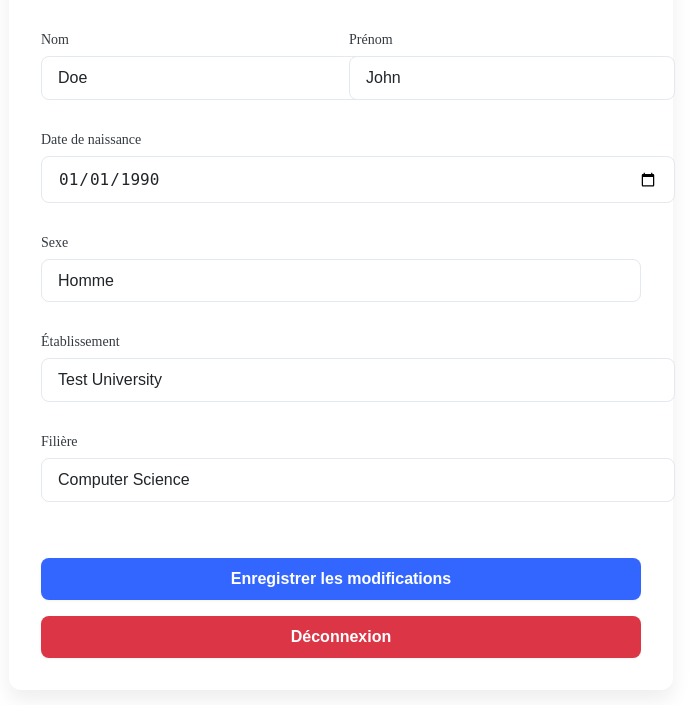
Test: ProfilePage › clears success/error messages on form change
(page scrolled)
Submit to show success
Click the button "Enregistrer les modifications".
click(341, 579)  # box [41,558,641,600]
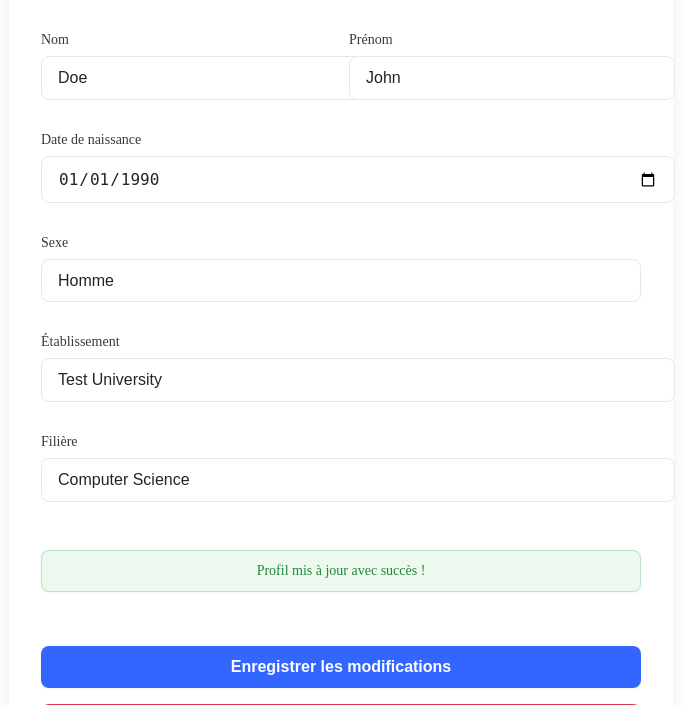
expect the text "Profil mis à jour avec succès !" is shown: met, box [41,550,641,592]
Change a field
Replace the text in the field labelled "Nom" with "AnotherName" at (204, 78), box [41,56,367,100]
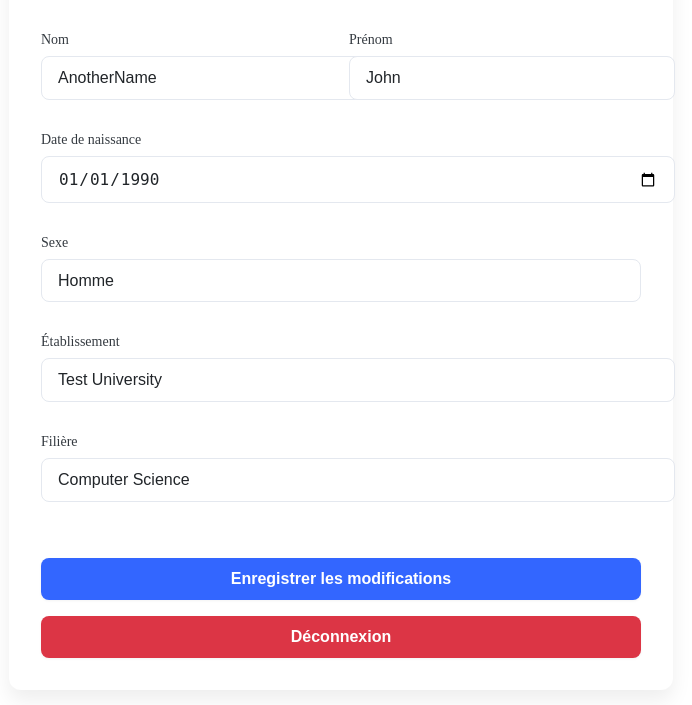
expect the text "Profil mis à jour avec succès !" is gone: met
Click the button "Enregistrer les modifications".
click(341, 579)  # box [41,558,641,600]
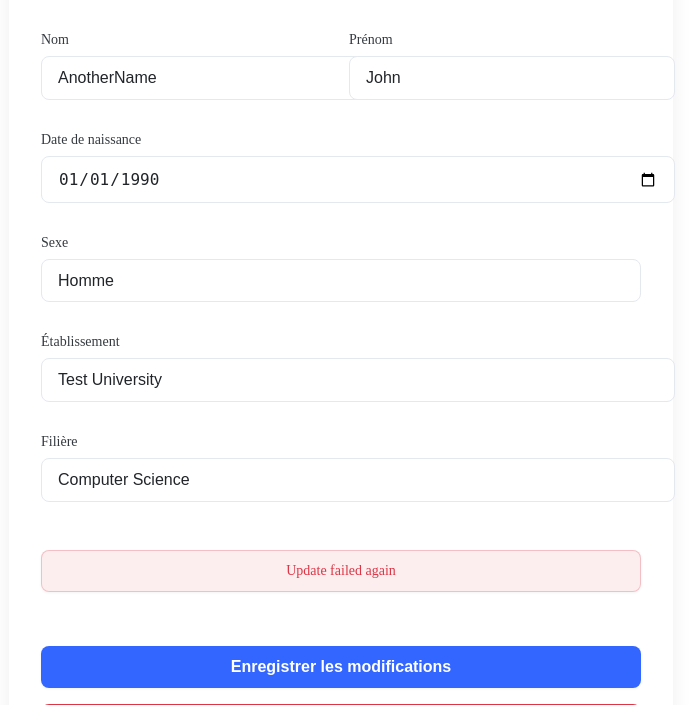
expect the text "Update failed again" is shown: met, box [41,550,641,592]
Change a field again
Replace the text in the field labelled "Prénom" with "AnotherFirstName" at (512, 78), box [349,56,675,100]
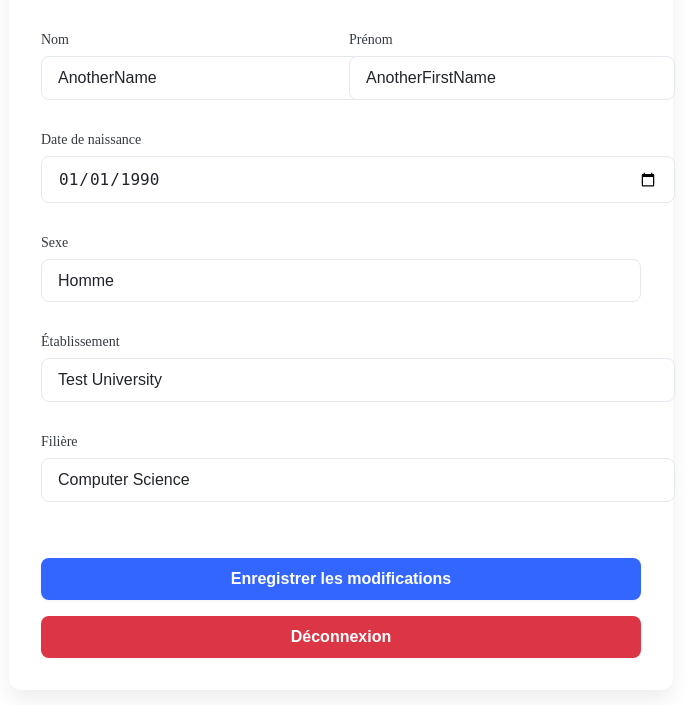
expect the text "Update failed again" is gone: met
